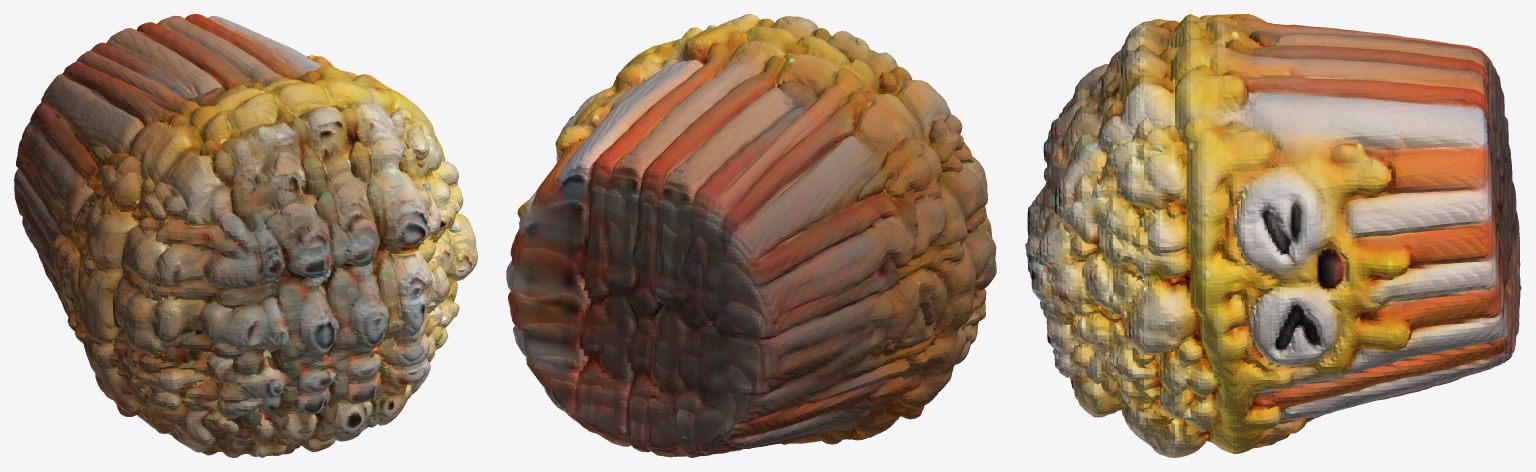
Rendered from popcorn.glb.
3 views of the same model, side by side, from view 1: azimuth 30°, elevation 25°; view 2: azimuth 150°, elevation 25°; view 3: azimuth 270°, elevation 25° (orthographic). The views are drawn at different scales.
Parts seen in each view (by area): view 1: geometry_0; view 2: geometry_0; view 3: geometry_0.
Boxes of the visible parts, x1=… form: geometry_0: x1=14, y1=14, x2=477, y2=457; geometry_0: x1=506, y1=14, x2=996, y2=457; geometry_0: x1=1025, y1=14, x2=1521, y2=457.
Bounding box in the file's own units: 0.8165 × 0.7694 × 0.873.
1 material, 1 textured.
